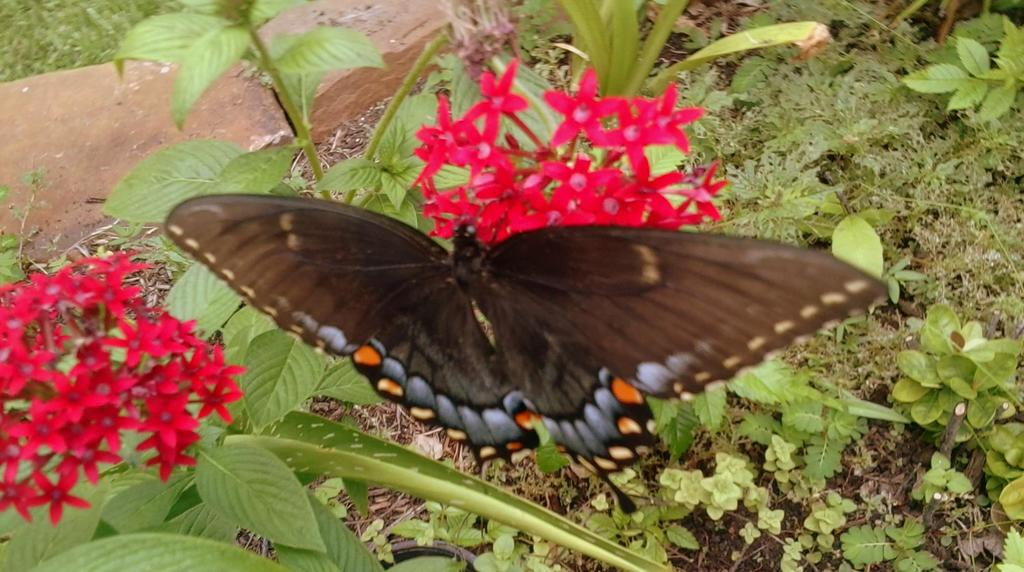Butterfly: (157, 183, 886, 481)
